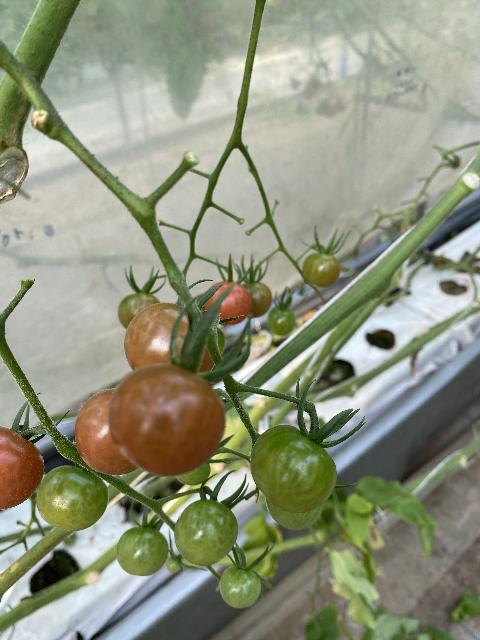l_fully_ripened: (0, 427, 44, 510)
l_green: (250, 425, 337, 512), (35, 464, 111, 533), (174, 499, 238, 566), (117, 526, 168, 576), (265, 498, 322, 530), (219, 566, 262, 608), (177, 458, 212, 486)
l_half_ripened: (109, 363, 224, 477), (124, 302, 214, 372), (76, 388, 137, 475), (205, 283, 250, 324)
